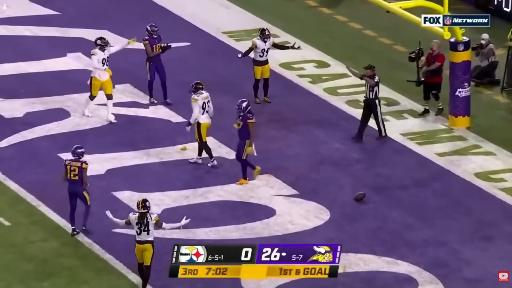Helmet: (236, 99, 250, 115), (137, 198, 151, 212), (146, 23, 159, 38), (71, 145, 85, 158), (95, 37, 110, 48), (259, 28, 271, 41), (190, 82, 204, 93)
Jersey: (91, 46, 124, 81), (129, 213, 158, 241), (190, 91, 213, 124), (64, 159, 87, 192), (237, 110, 254, 141), (252, 38, 273, 61), (143, 35, 162, 51)
Player: (106, 199, 189, 287), (238, 28, 301, 103), (84, 37, 135, 122), (187, 82, 217, 167), (63, 146, 90, 236), (143, 24, 171, 104), (235, 100, 260, 184)
